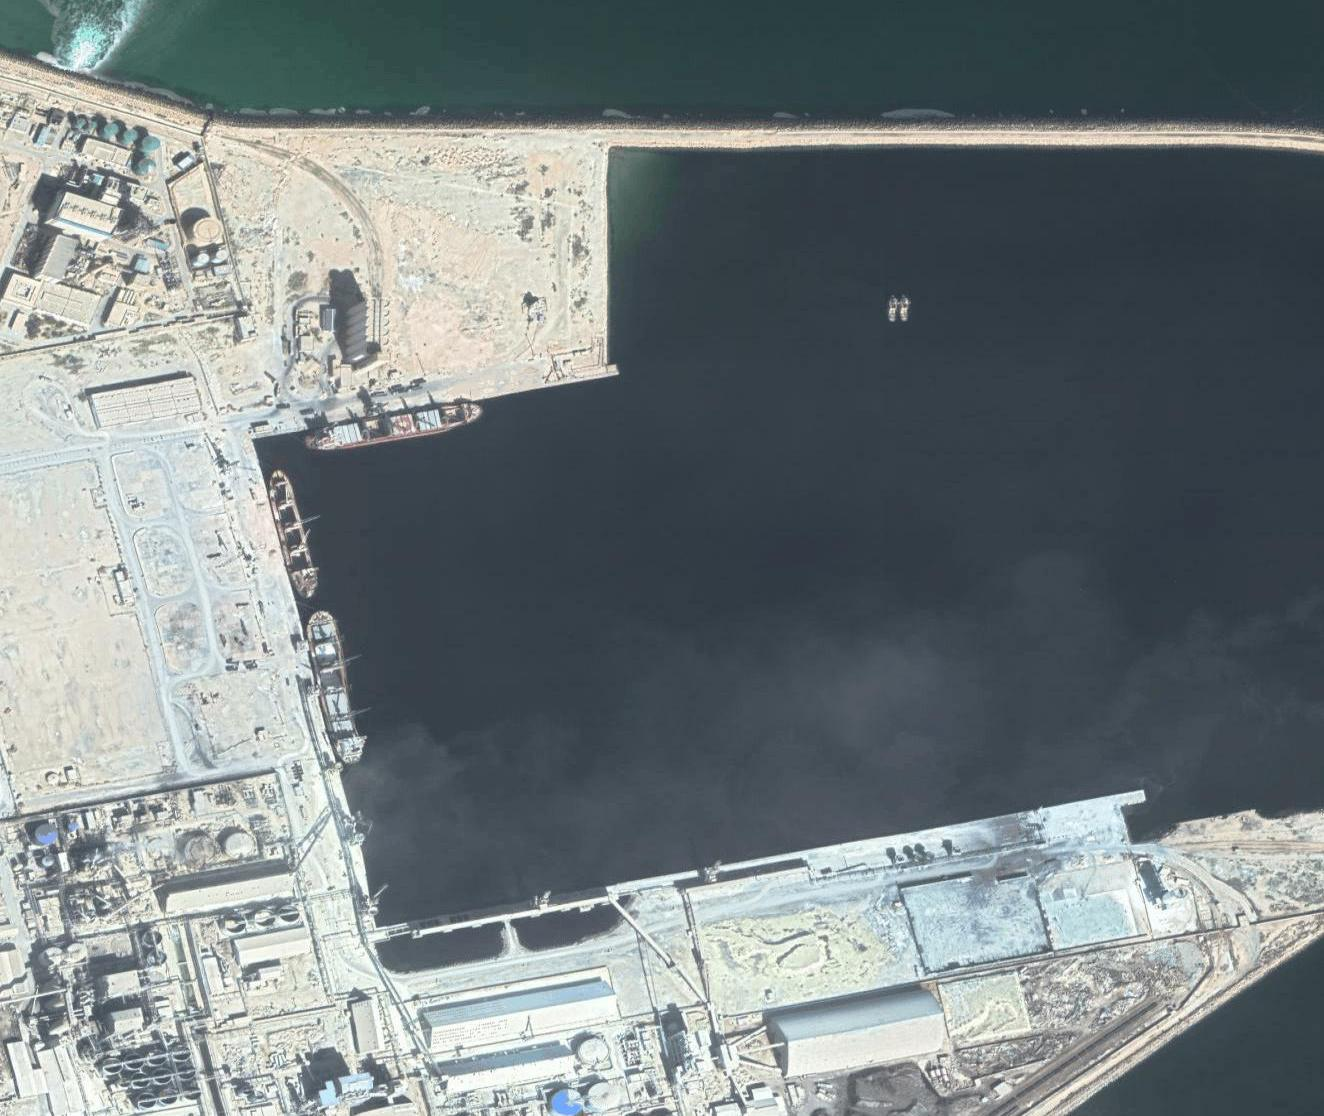harbor: (102, 44, 1324, 1087)
